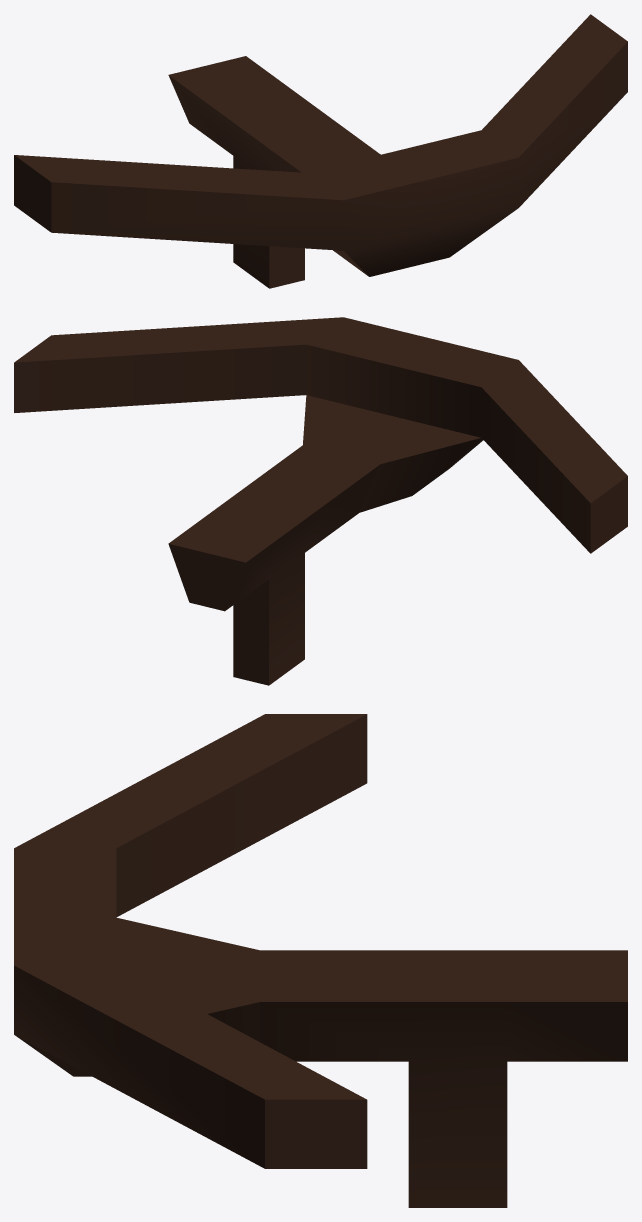
The model's file is Crossbow 1.fbx.
3 renders of one model, top to bottom at view 1: azimuth 30°, elevation 25°; view 2: azimuth 150°, elevation 25°; view 3: azimuth 270°, elevation 25°, orthographic. The views are drawn at different scales.
Visible parts, largest first — view 1: pCube4; view 2: pCube4; view 3: pCube4.
Boxes of the visible parts, box(x1,y1,x2,y2) form: pCube4: box(14, 14, 627, 288); pCube4: box(14, 317, 627, 685); pCube4: box(14, 714, 627, 1207).
Size of the model in its own units: 11.84 by 4.14 by 7.97.
